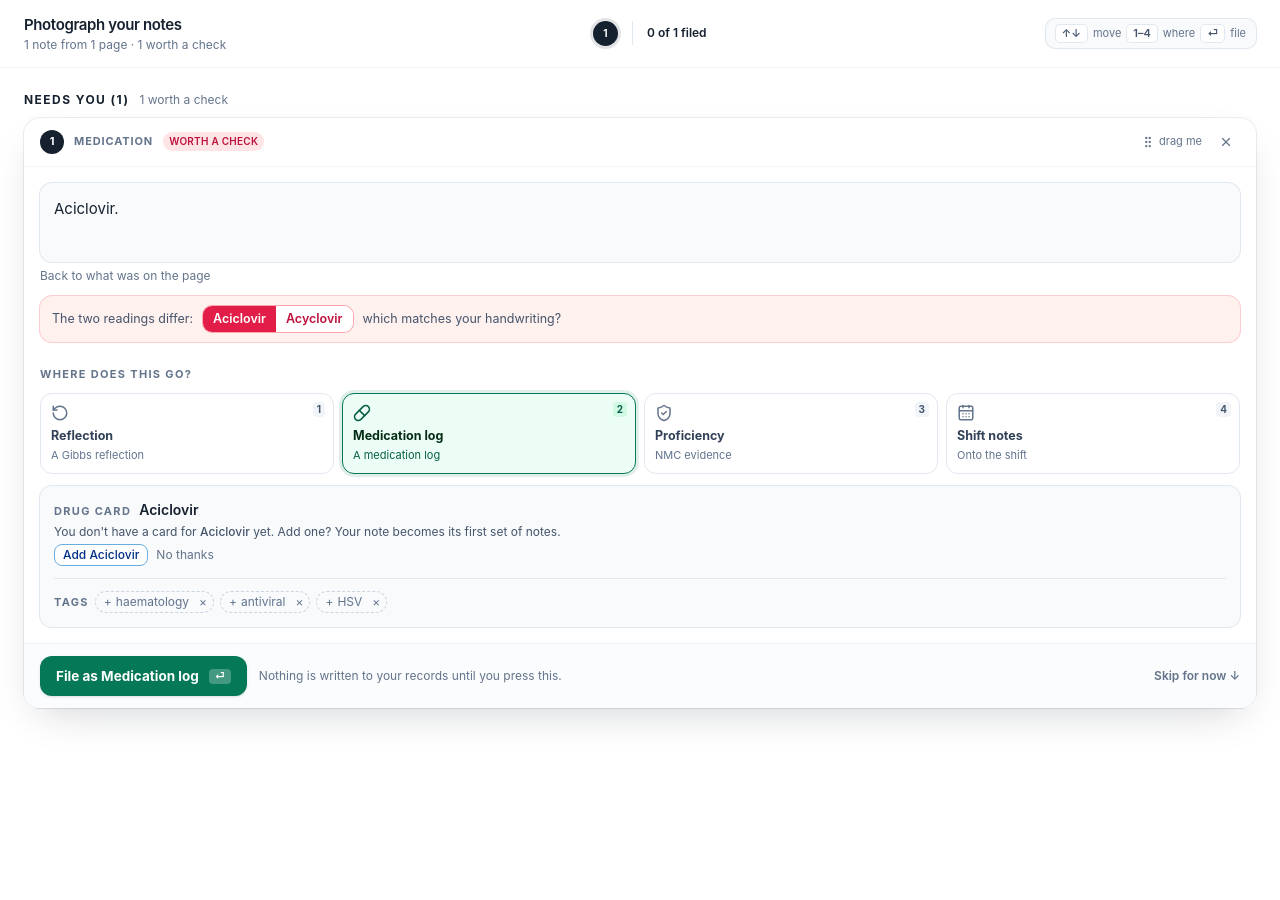
Test: ReviewPanel — the notes themselves › offers a way back to exactly what was on the page, but only once it differs
This screenshot has width=1280, height=900.
What coordinates should you click on to do the following:
click the button "Back to what was on the page"
I would click on:
 (125, 276)
Its box is [40, 268, 211, 284].
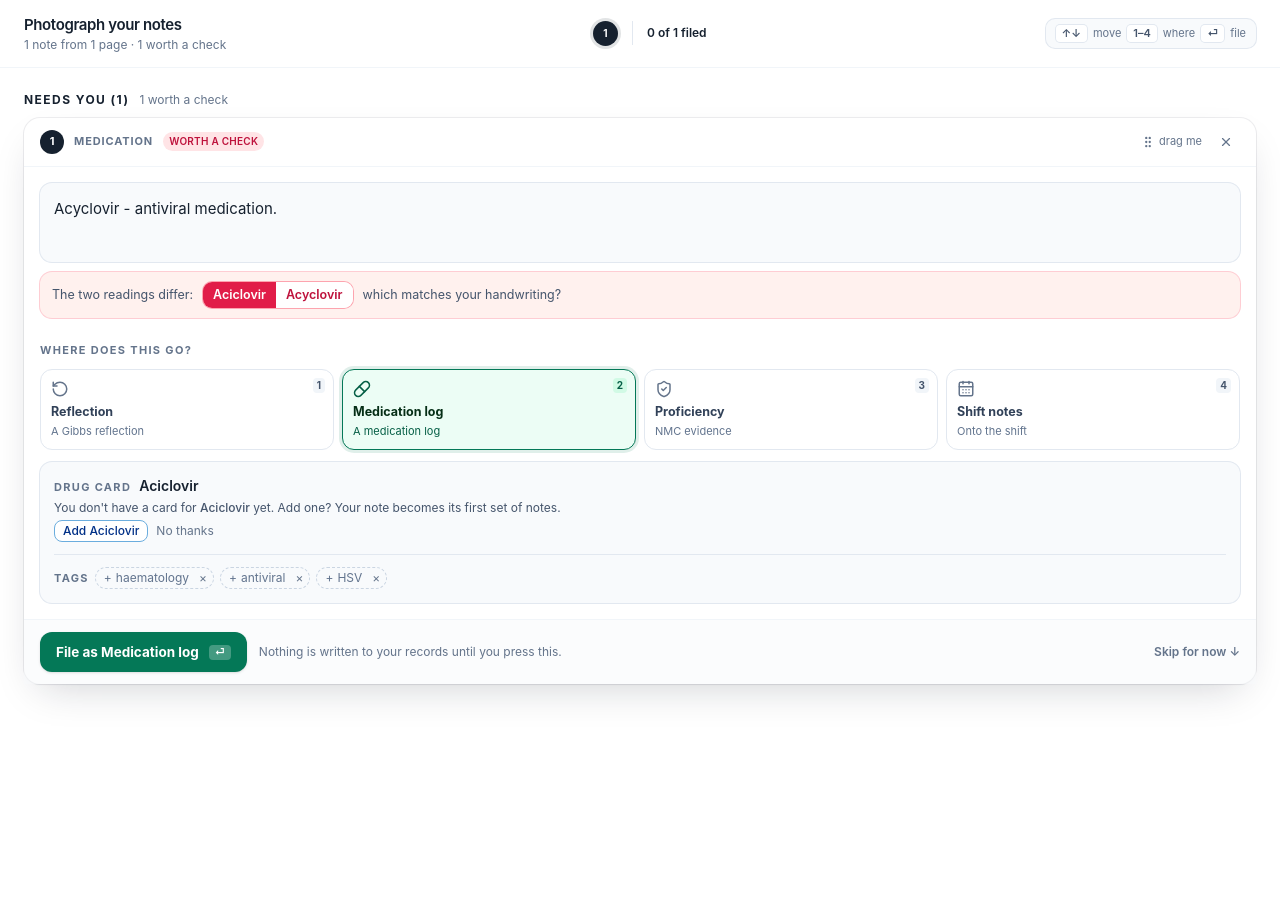
Check: the button "Back to what was on the page" is gone
